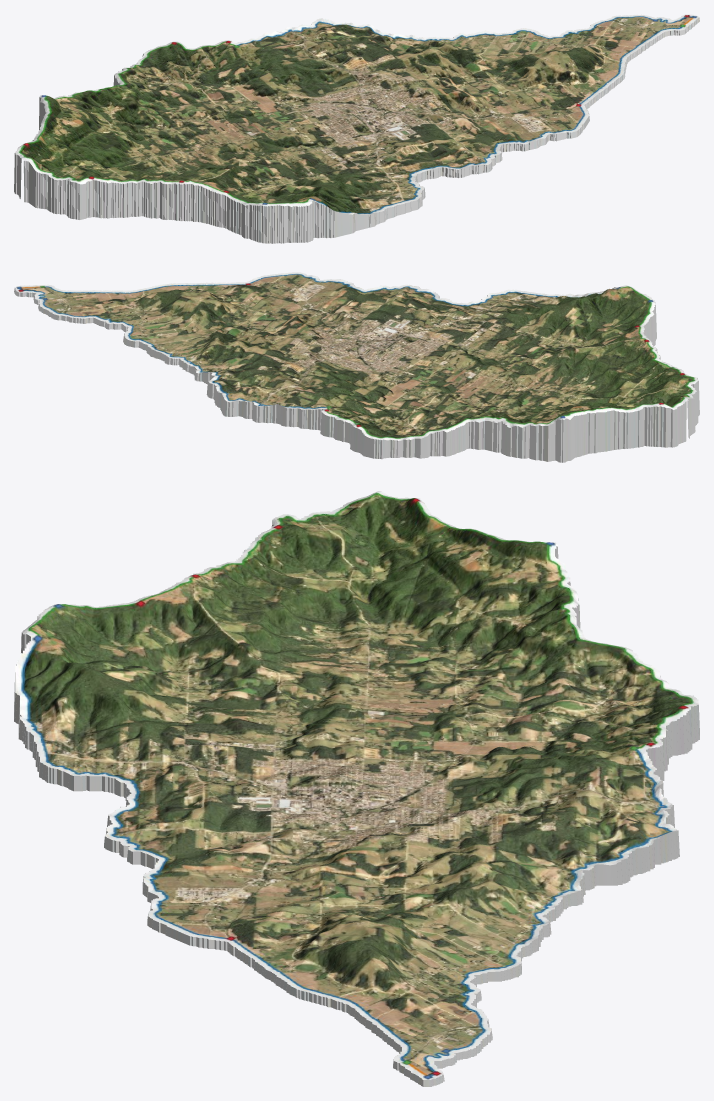
3 renders of one model, top to bottom at view 1: azimuth 30°, elevation 25°; view 2: azimuth 150°, elevation 25°; view 3: azimuth 270°, elevation 25°, orthographic. The views are drawn at different scales.
Size of the model in its own units: 0.9996 by 0.0636 by 0.5467.
Materials: 1 (1 with a texture image).
